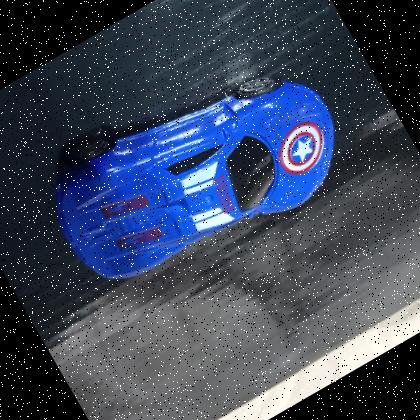Car: (20, 14, 376, 324)
